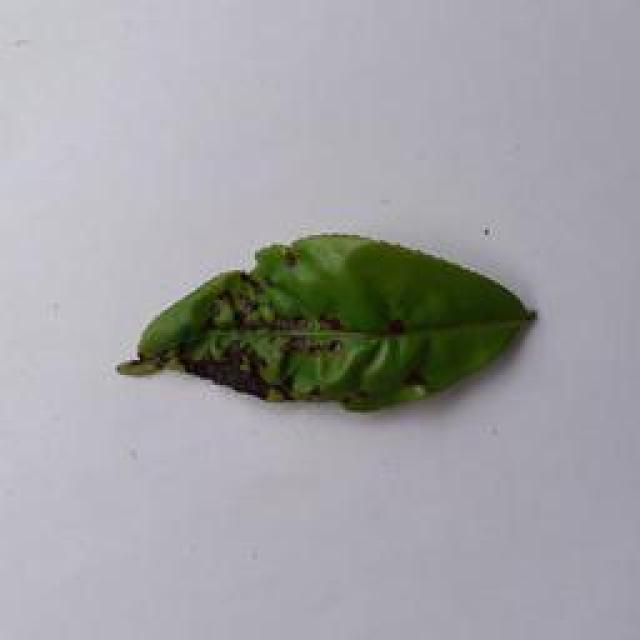Helopeltis: (114, 229, 547, 419)
